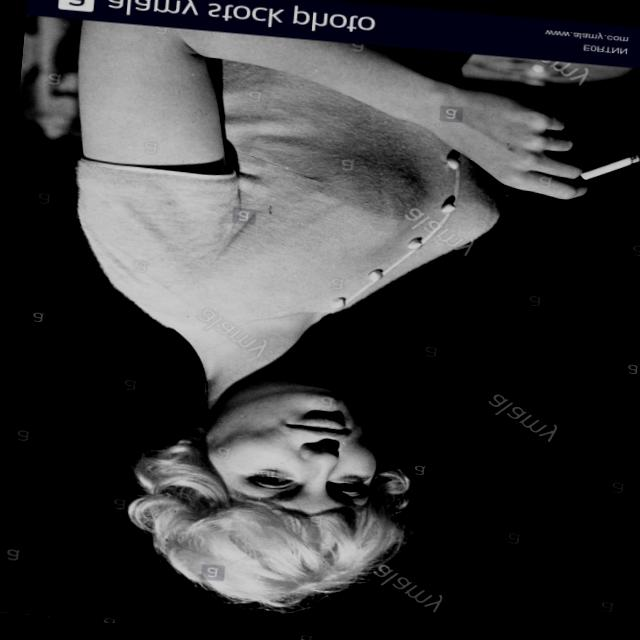smoke: (549, 128, 640, 207)
